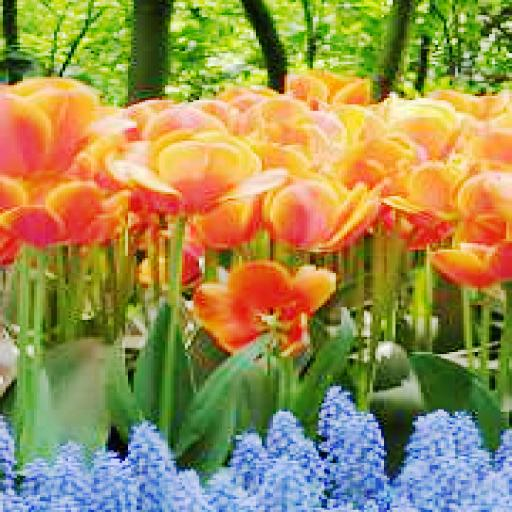tulip: (190, 260, 338, 356), (108, 141, 287, 215), (262, 182, 372, 248)
